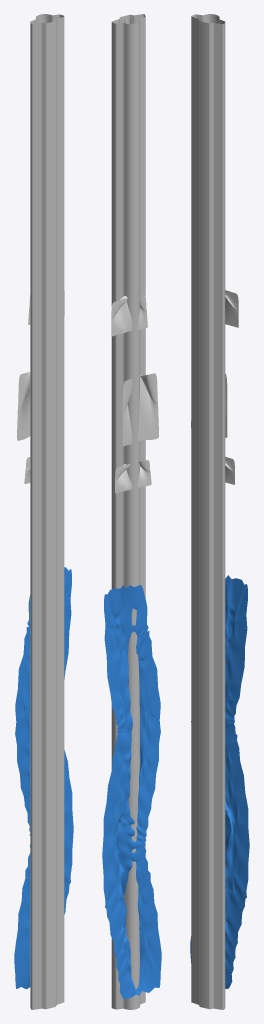
The model's file is halfpipe_tunnel_with dunes.fbx.
The picture shows the model from 3 angles, left to right: view 1: azimuth 30°, elevation 25°; view 2: azimuth 210°, elevation 25°; view 3: azimuth 330°, elevation 25°; orthographic projection.
Visible parts, largest first — view 1: tunnel, oldDrawsel, Plane.008; view 2: tunnel, oldDrawsel, Plane.008, Plane.009, Plane.006; view 3: tunnel, oldDrawsel, Plane.009, Plane.006, Plane.008.
Part boxes in pixels (x1,y1,x2,y2): tunnel: (30,14,64,1009); oldDrawsel: (14,567,73,989); Plane.008: (17,371,30,440); tunnel: (111,14,145,1009); oldDrawsel: (102,585,161,998); Plane.008: (122,373,158,446); Plane.009: (111,294,147,336); Plane.006: (115,460,151,493); tunnel: (191,14,225,1009); oldDrawsel: (190,575,249,988); Plane.009: (225,290,238,327); Plane.006: (225,457,234,484); Plane.008: (191,373,227,437).
Size of the model in its own units: 3157 by 50000 by 1034.
